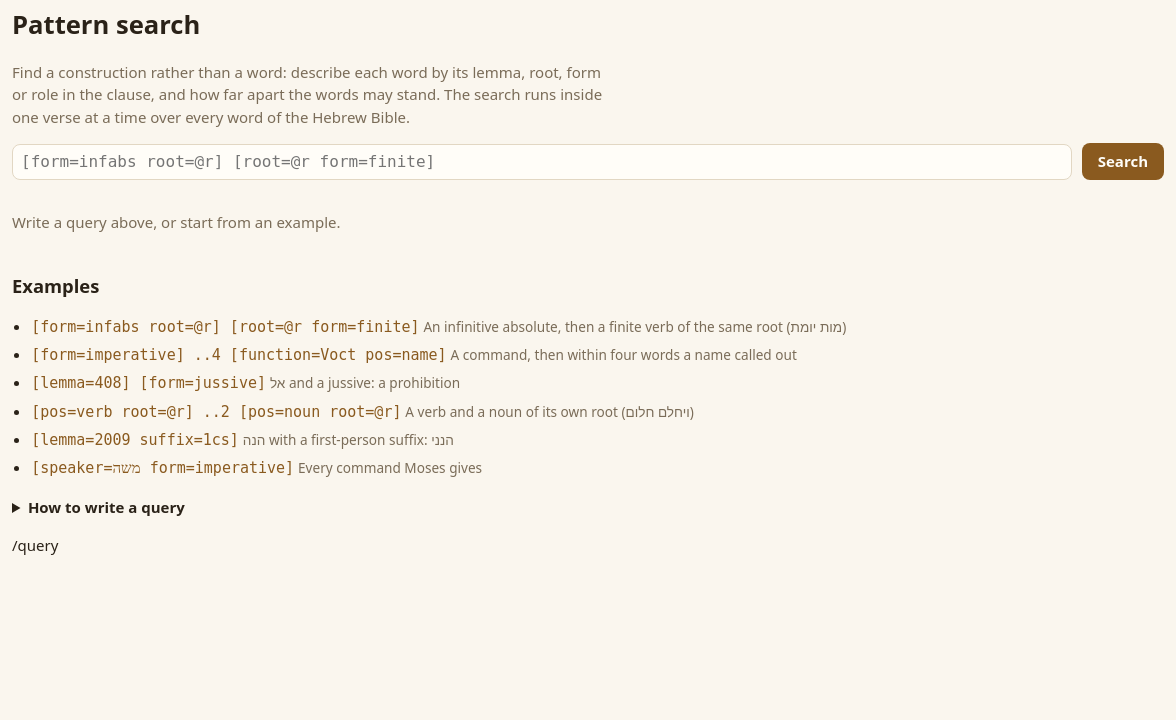
Test case: QueryPage › says what is wrong with a query and marks where
The width and height of the screenshot is (1176, 720).
Type "  [form=infabs] [colour=red] " into the search field named "Query" at (542, 162), box left=12, top=144, right=1072, bottom=180
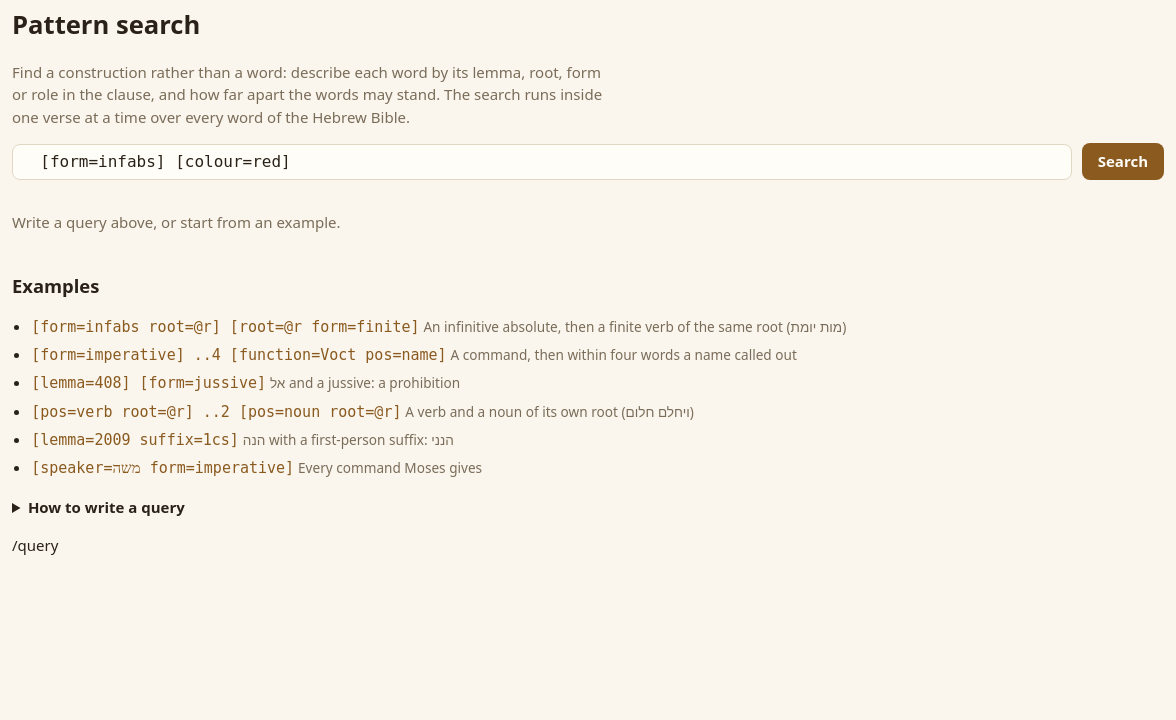
Click the button "Search" at (1123, 162), box left=1082, top=143, right=1164, bottom=180
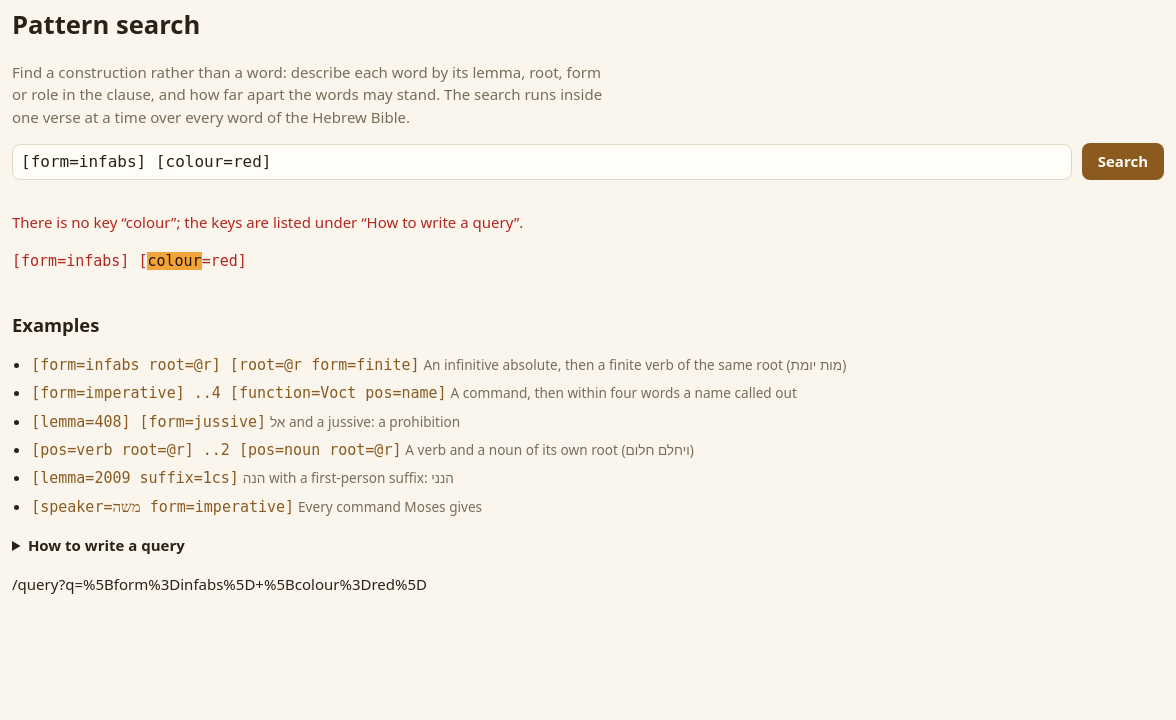
Expected: the message is shown, left=12, top=212, right=523, bottom=270
Expected: the text "There is no key “colour”" is shown, left=12, top=212, right=523, bottom=232
Expected: the text "colour" is shown, left=148, top=252, right=202, bottom=270
